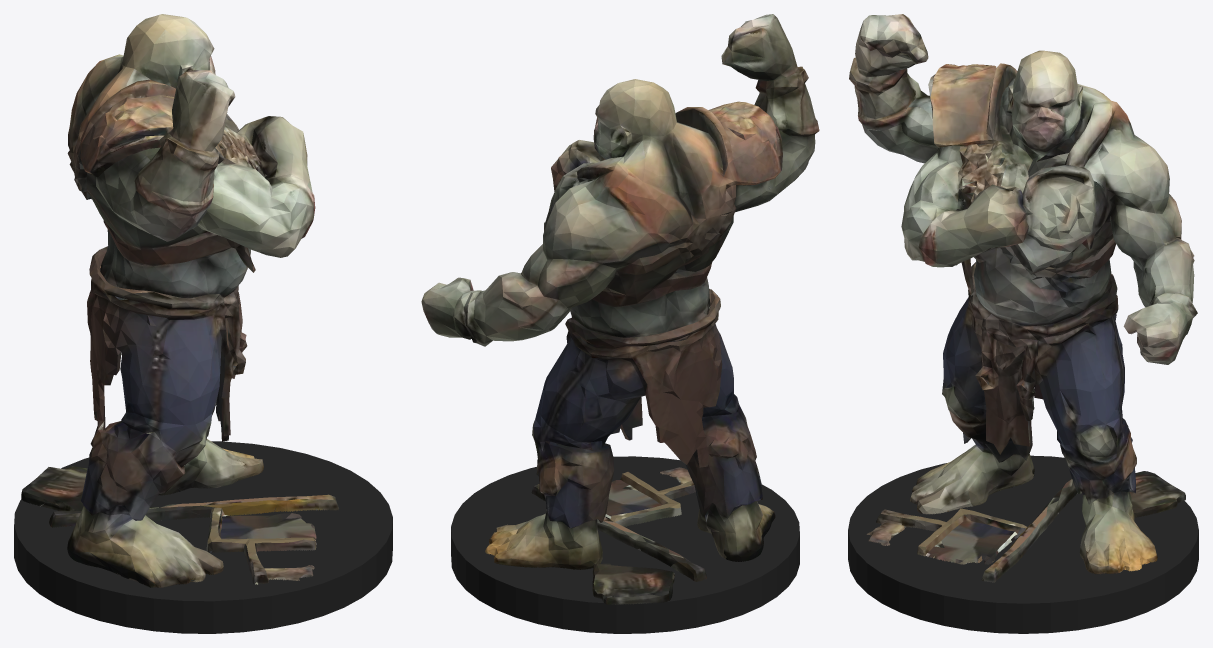
The model's file is super-mutant@melee2.glb.
3 views of the same model, side by side, from view 1: azimuth 30°, elevation 25°; view 2: azimuth 150°, elevation 25°; view 3: azimuth 270°, elevation 25° (orthographic). The views are drawn at different scales.
Parts seen in each view (by area): view 1: figure, base; view 2: figure, base; view 3: figure, base.
Part boxes in pixels (x1=…): figure: x1=21, y1=14, x2=338, y2=587; base: x1=14, y1=441, x2=392, y2=633; figure: x1=421, y1=14, x2=819, y2=604; base: x1=451, y1=456, x2=799, y2=633; figure: x1=849, y1=14, x2=1197, y2=582; base: x1=848, y1=455, x2=1198, y2=633.
Size of the model in its own units: 1.26 by 2.02 by 1.26.
Materials: 2 (1 with a texture image).
